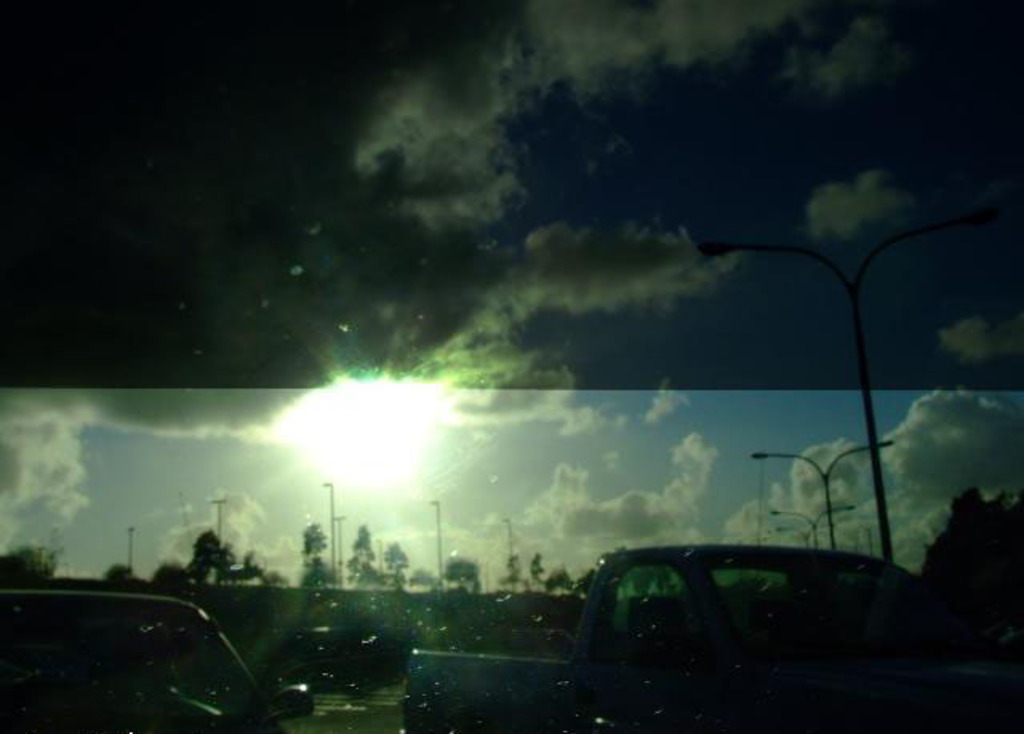Car: (0, 0, 1022, 732), (400, 542, 1022, 732), (32, 580, 254, 718), (270, 588, 423, 684)
